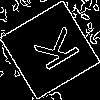K: (24, 25, 82, 78)
